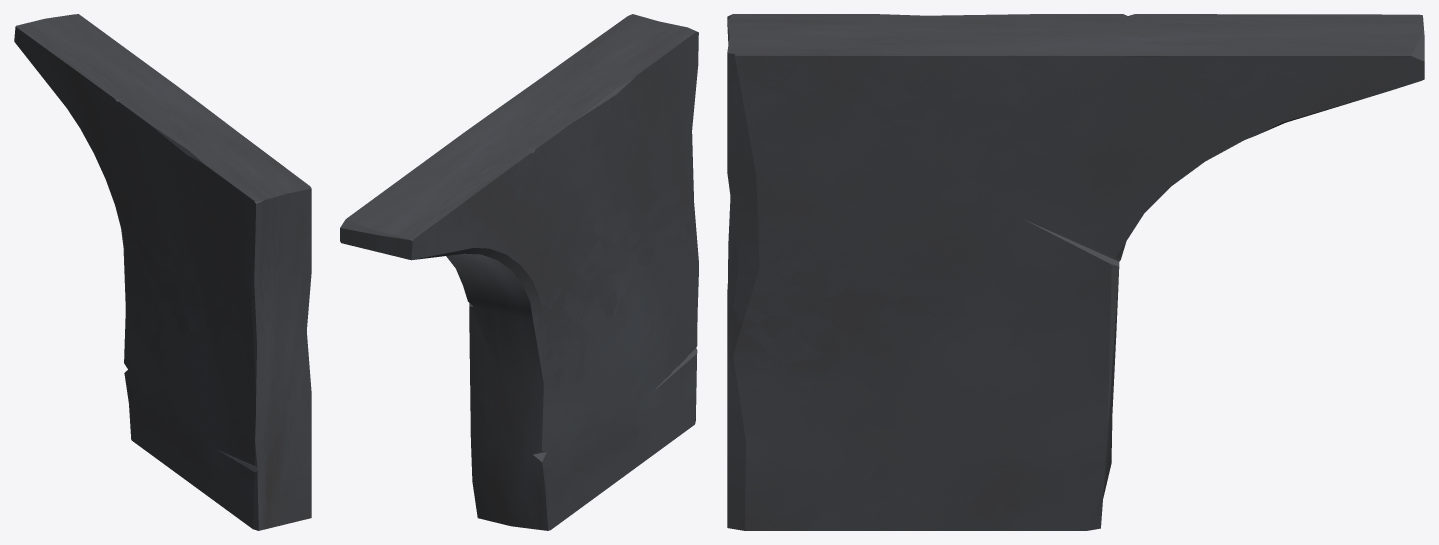
Rendered from ruins_arch.fbx.
3 views of the same model, side by side, from view 1: azimuth 30°, elevation 25°; view 2: azimuth 150°, elevation 25°; view 3: azimuth 270°, elevation 25° (orthographic). The views are drawn at different scales.
Parts seen in each view (by area): view 1: arch; view 2: arch; view 3: arch.
Boxes of the visible parts, box(x1,y1,x2,y2) form: arch: box(14, 14, 311, 530); arch: box(340, 14, 698, 530); arch: box(727, 14, 1424, 530).
Size of the model in its own units: 40 by 211 by 280.
